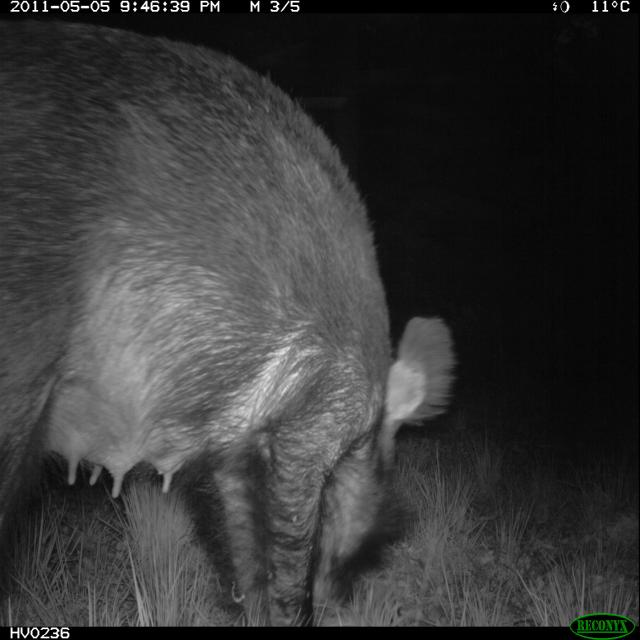boar: (0, 15, 583, 622)
